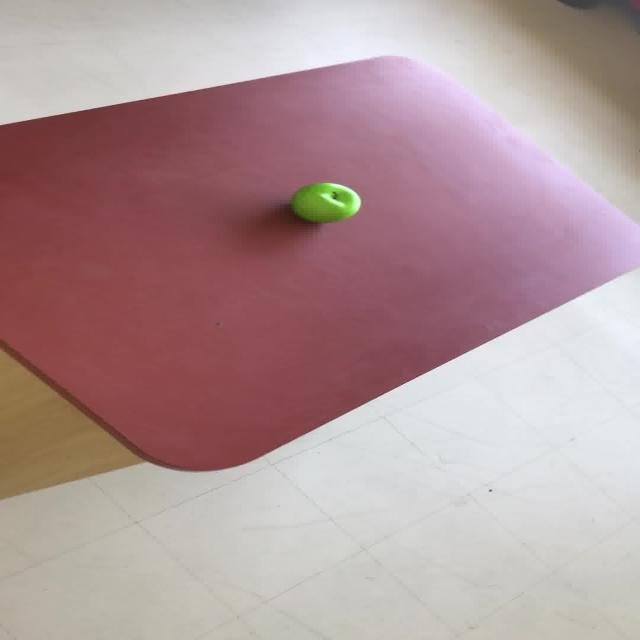apple: (289, 182, 360, 222)
